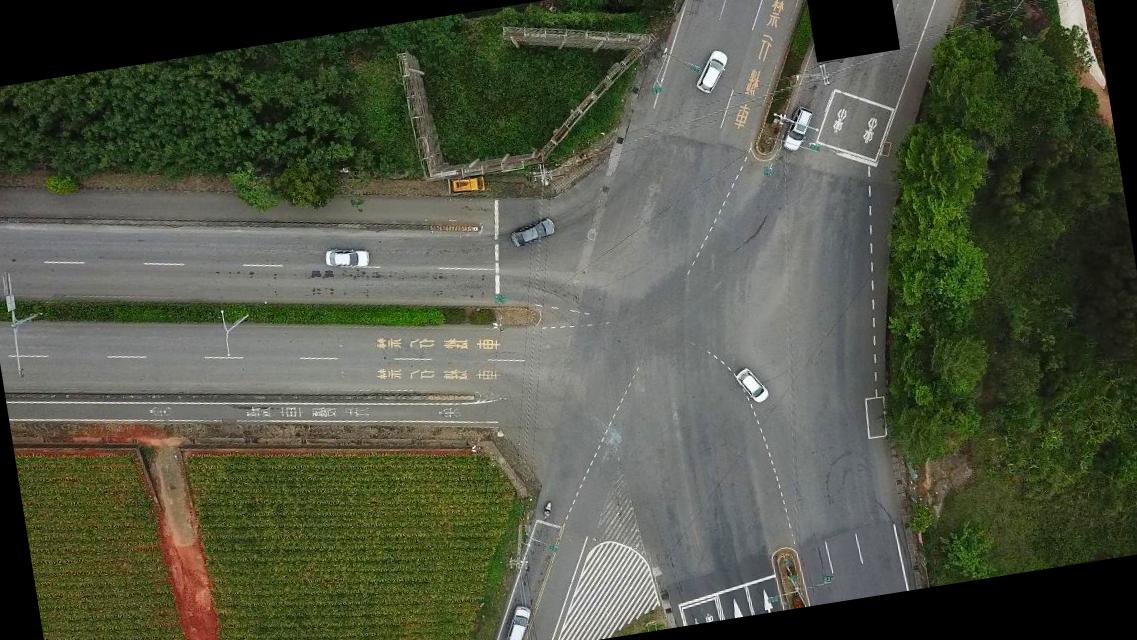vehicle: (778, 104, 818, 154), (691, 48, 733, 95), (323, 240, 372, 273), (508, 216, 556, 248), (734, 364, 770, 406), (501, 602, 537, 639), (450, 176, 485, 196)
